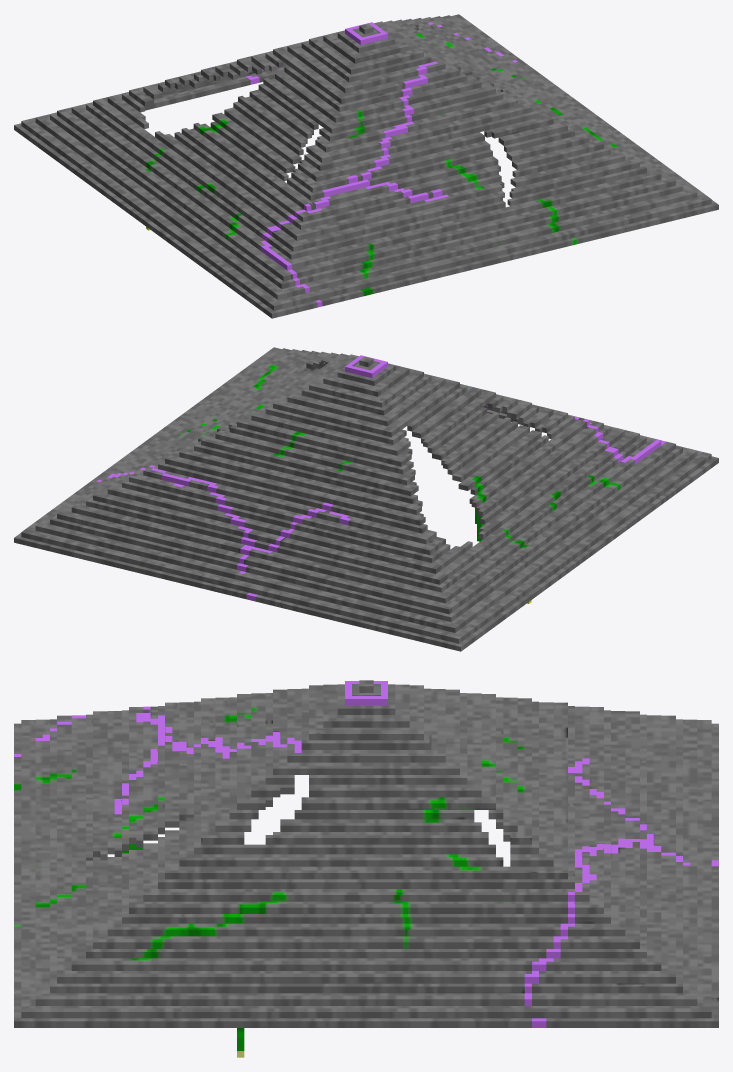
The model's file is Ceilling.fbx.
3 views of the same model, one above another, from view 1: azimuth 30°, elevation 25°; view 2: azimuth 150°, elevation 25°; view 3: azimuth 270°, elevation 25° (orthographic). The views are drawn at different scales.
Visible parts, largest first — view 1: Ceilling; view 2: Ceilling; view 3: Ceilling.
Part boxes in pixels (x1=…): Ceilling: x1=14, y1=14, x2=718, y2=318; Ceilling: x1=14, y1=347, x2=718, y2=651; Ceilling: x1=14, y1=680, x2=718, y2=1057.
Size of the model in its own units: 980 by 420 by 980.
